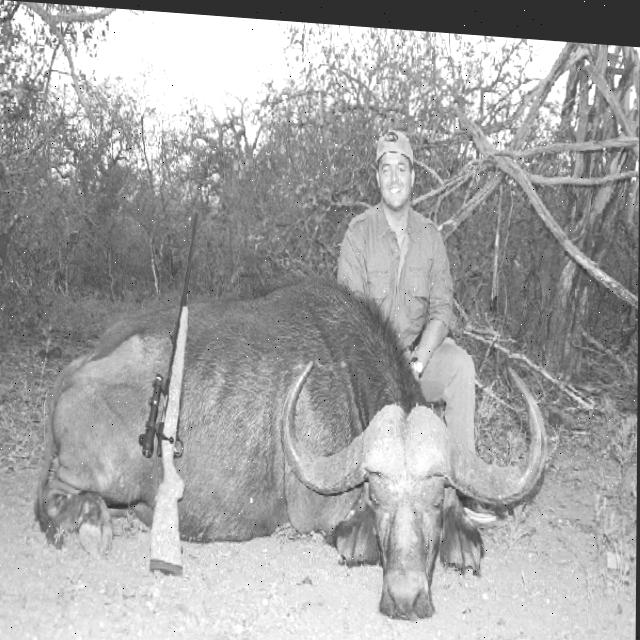Buffalo: (31, 257, 553, 633)
